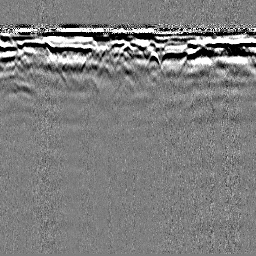cavity: (121, 40, 135, 53)
